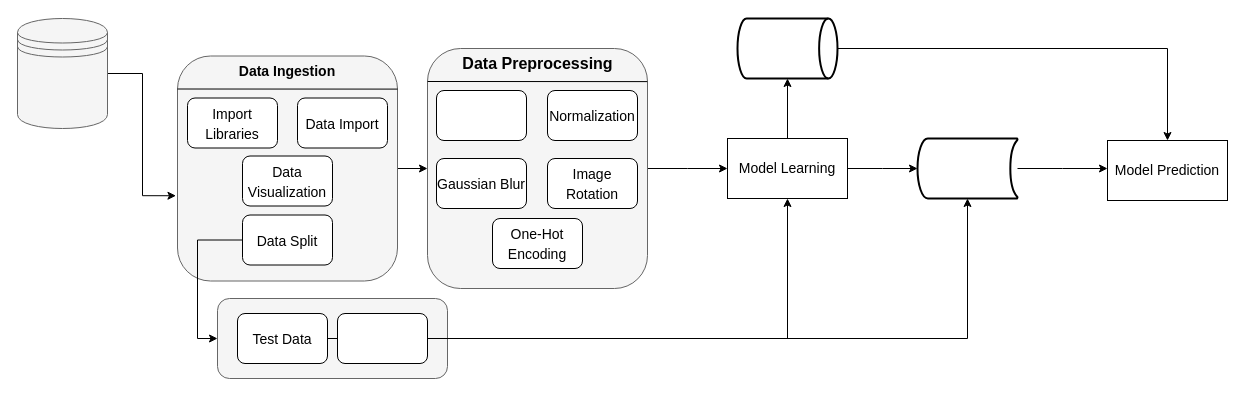
Some shapes in this 1245 by 396 pixel diagram are drawn without their labels. Here are the shapes that lost their labels. From the top down, the centre of each, then its label:
point (787, 48): Trained Model
point (62, 73): Offline Data
point (481, 115): Grayscale Conversion
point (967, 168): Model Evaluation
point (382, 338): Train Data
